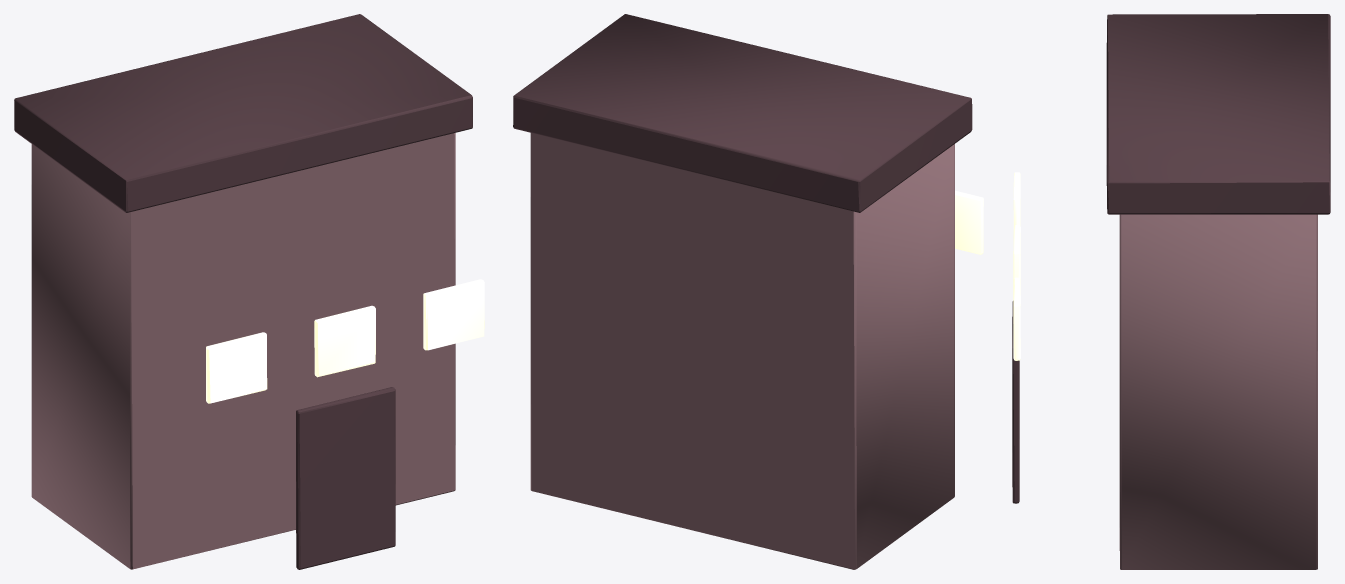
File: SM_Schlachthof_Hall_LOD1.fbx
3 views of the same model, side by side, from view 1: azimuth 30°, elevation 25°; view 2: azimuth 150°, elevation 25°; view 3: azimuth 270°, elevation 25° (orthographic).
Parts seen in each view (by area): view 1: SM_Schlachthof_Hall_LOD1; view 2: SM_Schlachthof_Hall_LOD1; view 3: SM_Schlachthof_Hall_LOD1.
Boxes of the visible parts, <box> form: SM_Schlachthof_Hall_LOD1: <box>14,14,484,569</box>; SM_Schlachthof_Hall_LOD1: <box>513,14,983,569</box>; SM_Schlachthof_Hall_LOD1: <box>1012,14,1330,569</box>.
Size of the model in its own units: 3.2 by 3.5 by 2.56.
